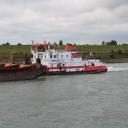tugboat: (26, 40, 110, 78)
